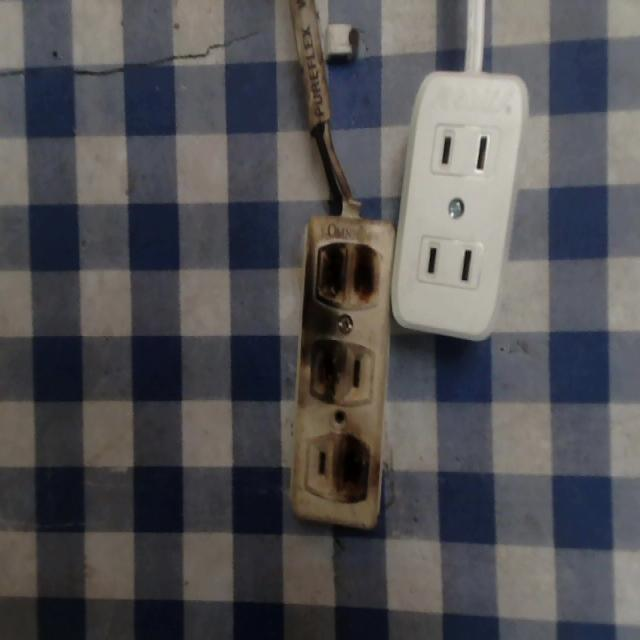-: (311, 234, 388, 318), (327, 423, 376, 516), (300, 335, 347, 401)
